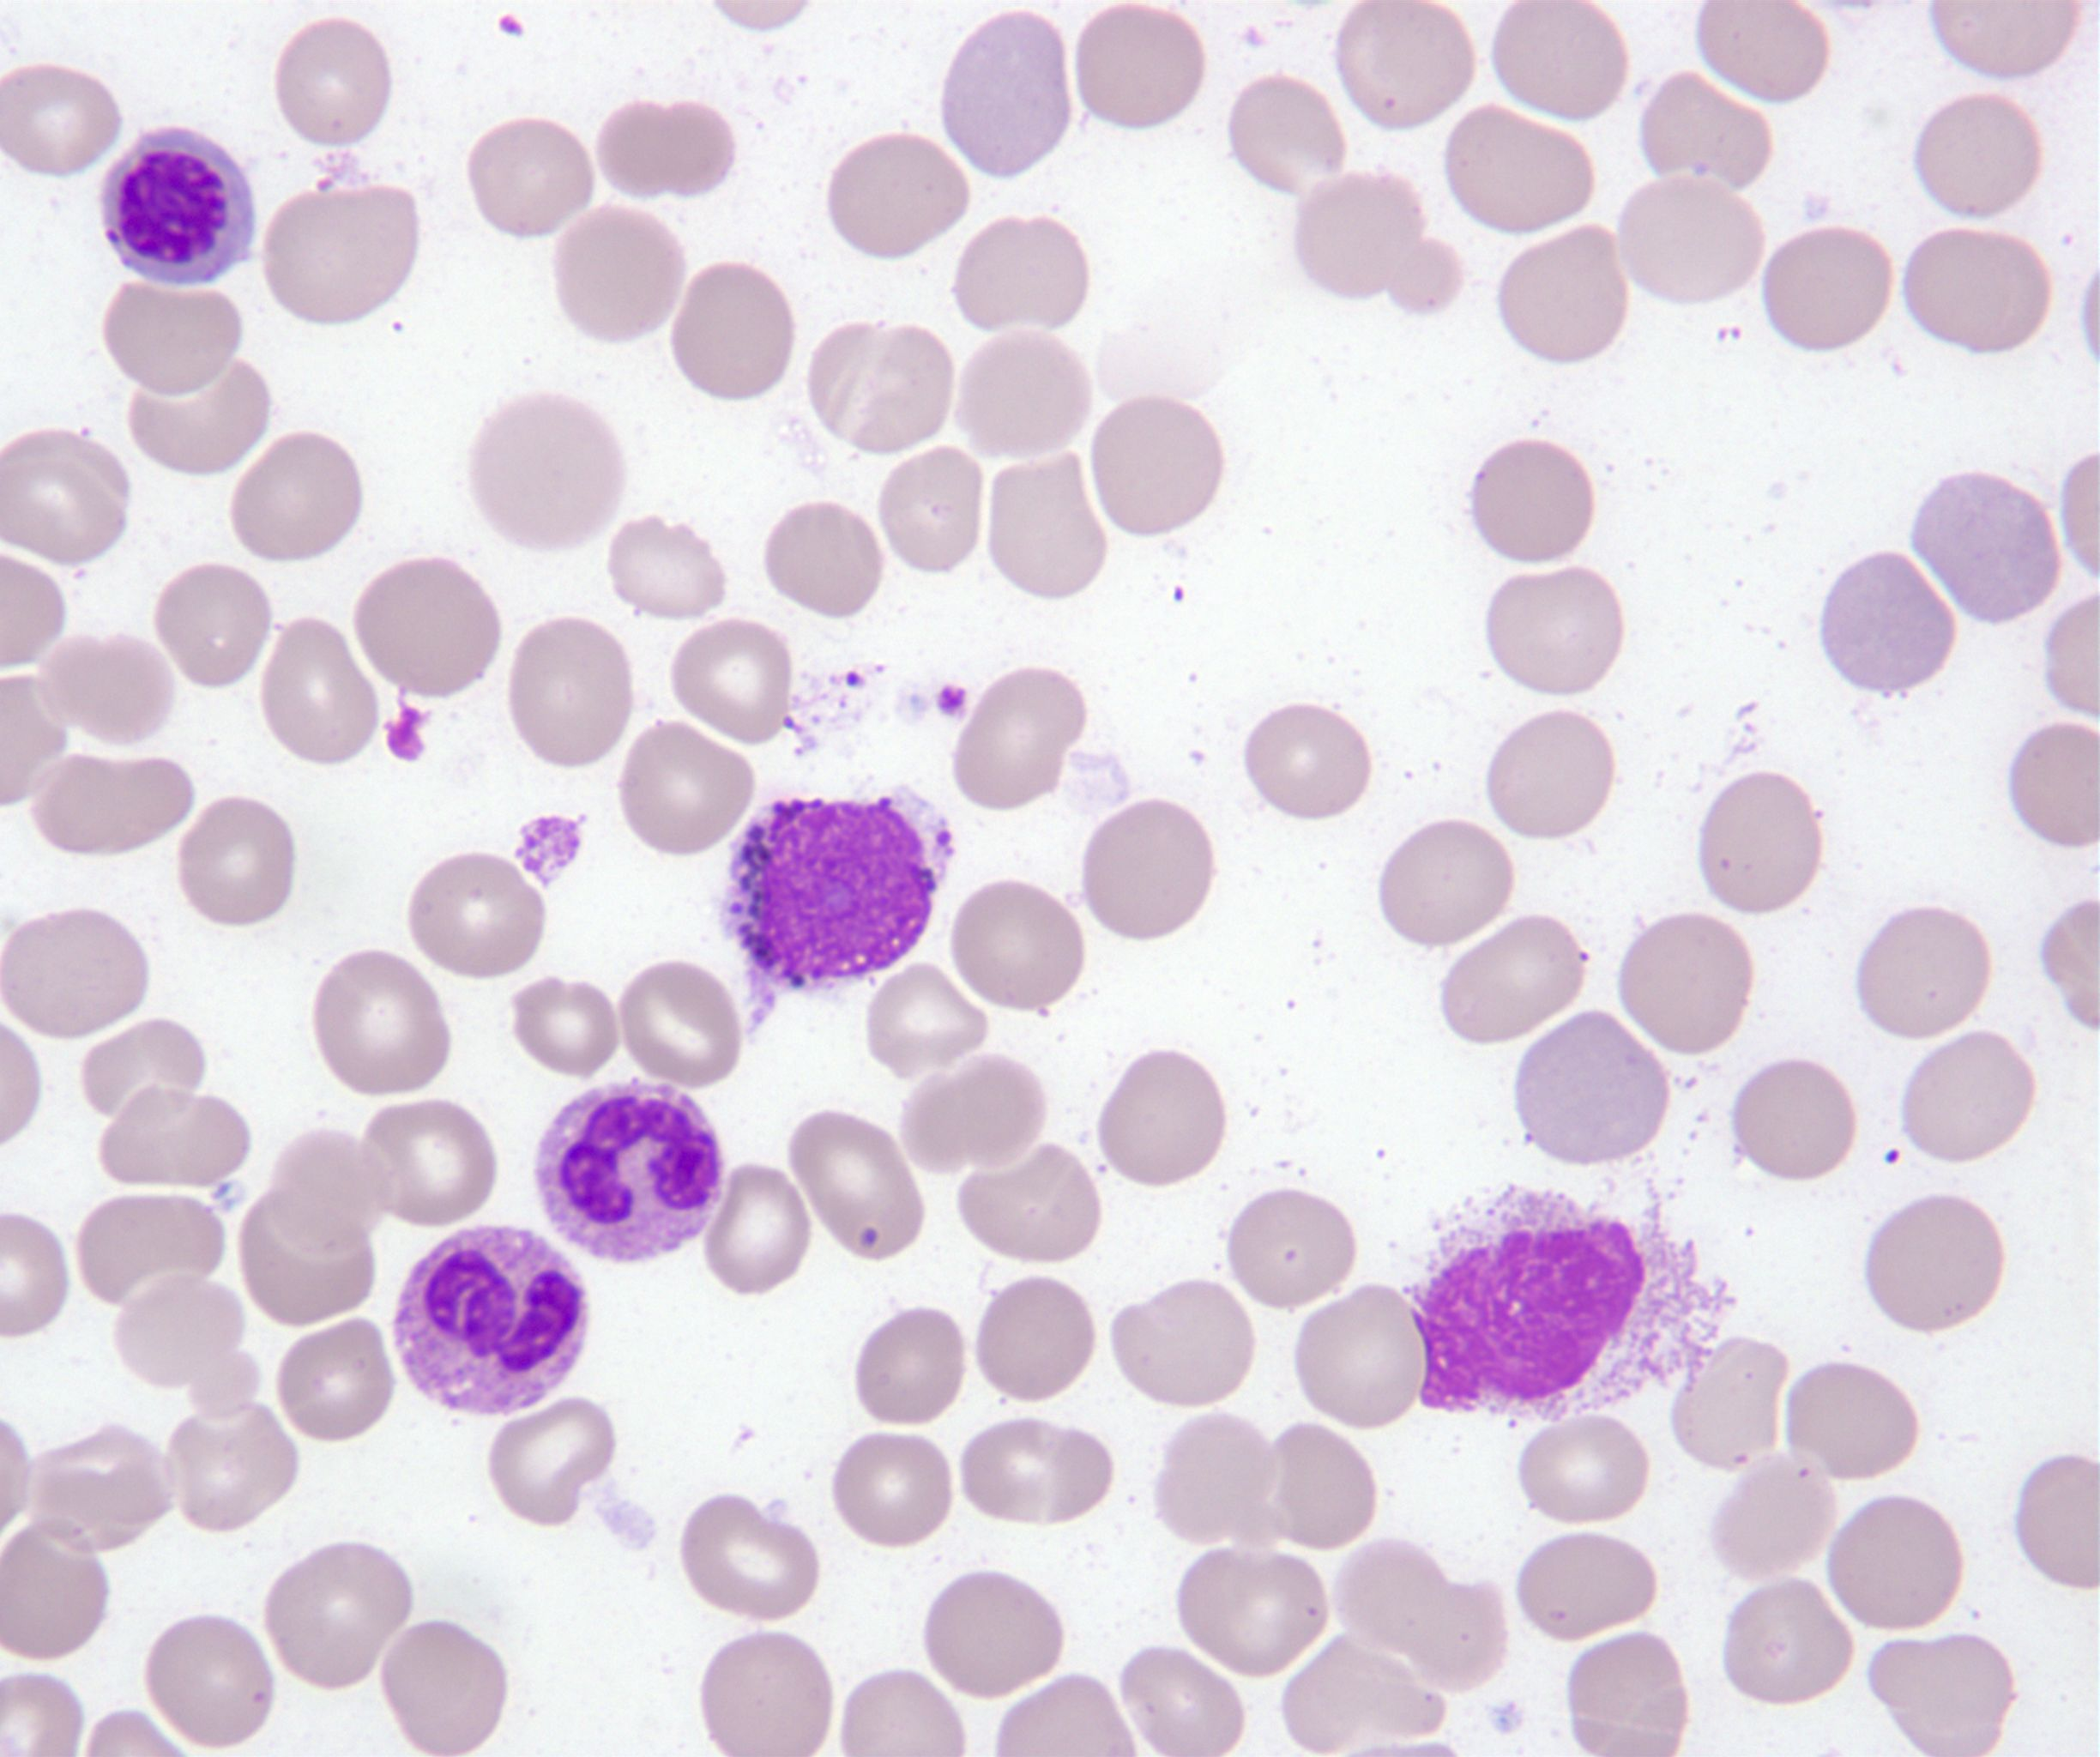24: (103, 129, 253, 284)
5: (535, 1082, 719, 1263)
6: (394, 1228, 586, 1417)
x: (1413, 1193, 1730, 1419), (729, 799, 935, 989)
